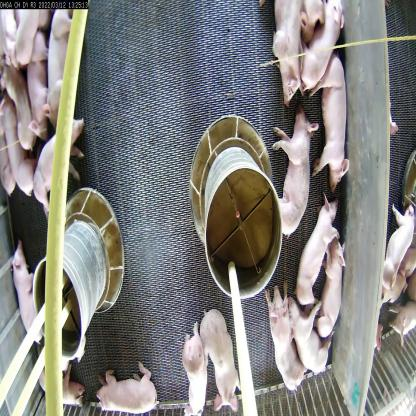Pig: (23, 103, 89, 214), (264, 271, 305, 402), (317, 57, 353, 192), (257, 0, 300, 107), (8, 218, 45, 340), (91, 350, 160, 415), (280, 116, 316, 240), (297, 0, 340, 96), (206, 299, 241, 406), (301, 203, 336, 309), (44, 7, 72, 130), (293, 290, 331, 373), (324, 232, 350, 348), (2, 100, 36, 188), (0, 52, 32, 136), (181, 321, 207, 415), (26, 41, 48, 130)
